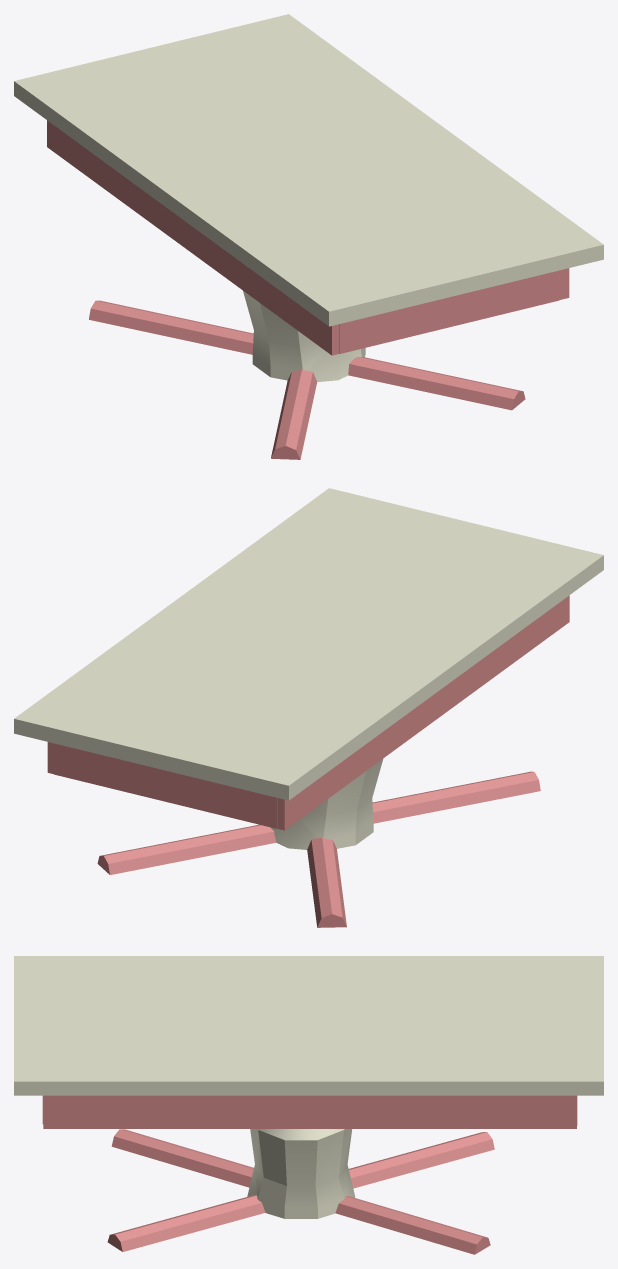
Rendered from Kitchen_Table.fbx.
3 views of the same model, one above another, from view 1: azimuth 30°, elevation 25°; view 2: azimuth 150°, elevation 25°; view 3: azimuth 270°, elevation 25° (orthographic). The views are drawn at different scales.
Visible parts, largest first — view 1: Kitchen_Table; view 2: Kitchen_Table; view 3: Kitchen_Table.
Boxes of the visible parts, left/top/right/bottom form: Kitchen_Table: left=14, top=14, right=603, bottom=459; Kitchen_Table: left=14, top=488, right=603, bottom=927; Kitchen_Table: left=14, top=956, right=603, bottom=1254.
Bounding box in the file's own units: 134 × 89.42 × 266.
